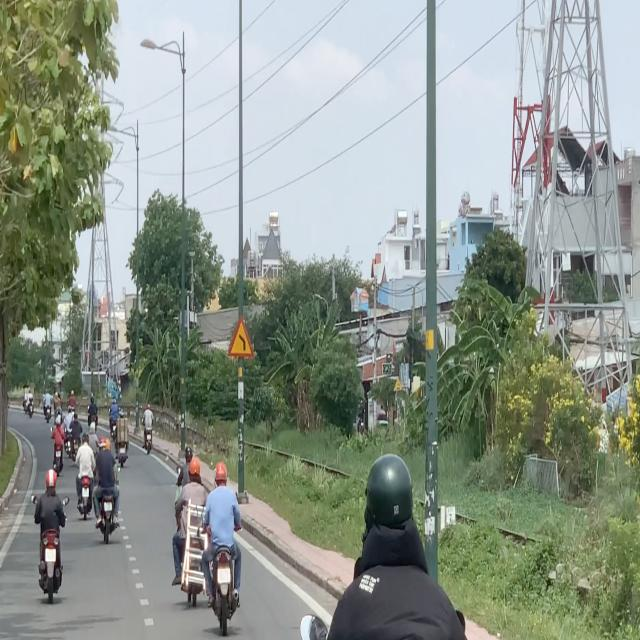Nguy hiem: (227, 318, 255, 358)
